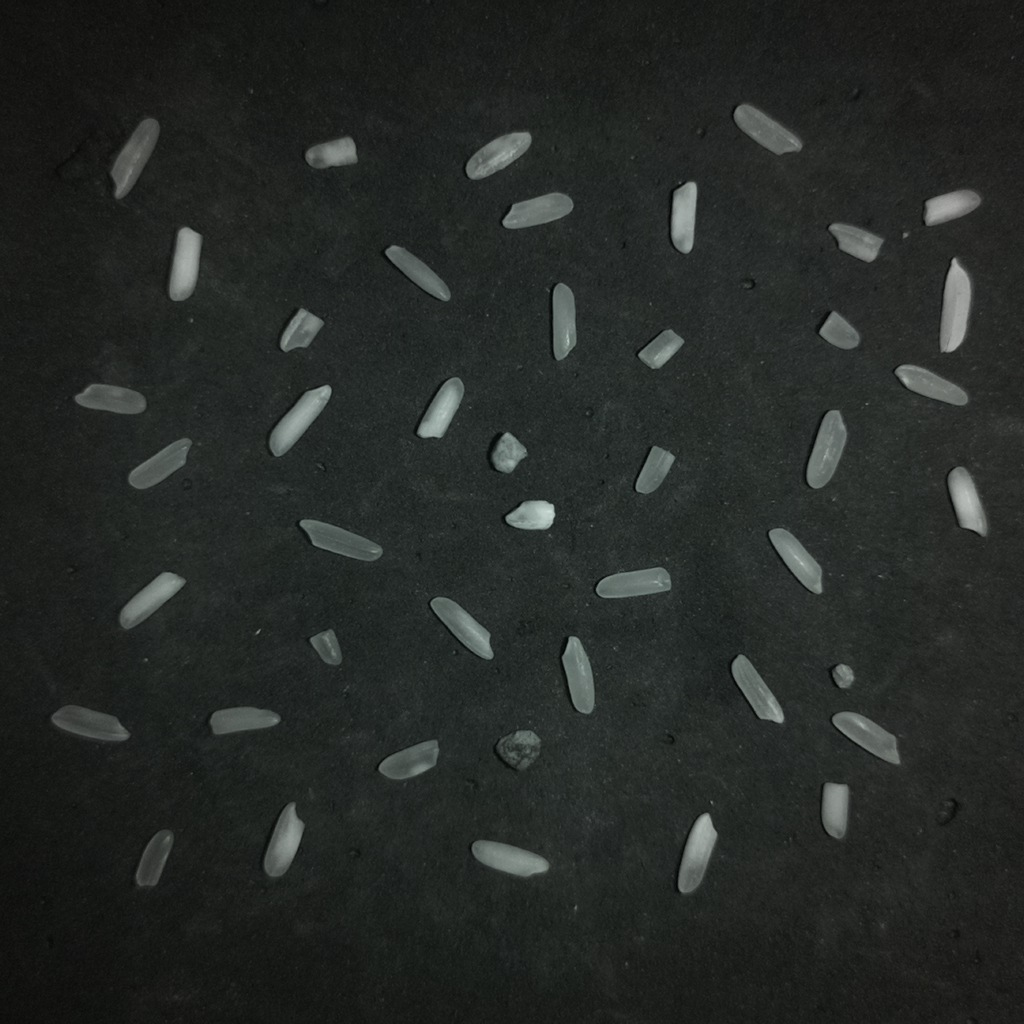broken: (378, 739, 439, 780), (135, 829, 173, 887), (828, 223, 883, 261), (209, 706, 280, 734), (279, 308, 323, 351), (635, 446, 674, 493), (638, 329, 683, 369), (821, 782, 849, 839), (818, 311, 860, 349), (309, 629, 341, 665)
chalky: (268, 385, 331, 456), (430, 597, 493, 659), (119, 572, 185, 629), (768, 528, 822, 593), (677, 813, 717, 893), (465, 132, 531, 179), (50, 705, 129, 741), (471, 840, 549, 876), (947, 467, 987, 536), (168, 227, 202, 300), (923, 190, 980, 225), (670, 181, 697, 253), (305, 136, 358, 169), (504, 500, 554, 530)
foreign: (940, 258, 971, 352), (495, 730, 540, 770), (490, 432, 527, 473), (830, 664, 854, 688)
whole: (110, 118, 159, 198), (384, 245, 450, 300), (731, 654, 783, 723), (832, 712, 899, 764), (733, 104, 802, 154), (298, 519, 382, 560), (128, 438, 191, 489), (805, 410, 846, 488), (263, 802, 305, 878), (894, 364, 967, 405), (416, 377, 463, 437), (561, 636, 594, 713), (502, 192, 572, 228), (596, 567, 670, 598), (74, 384, 146, 414), (552, 283, 574, 358)
